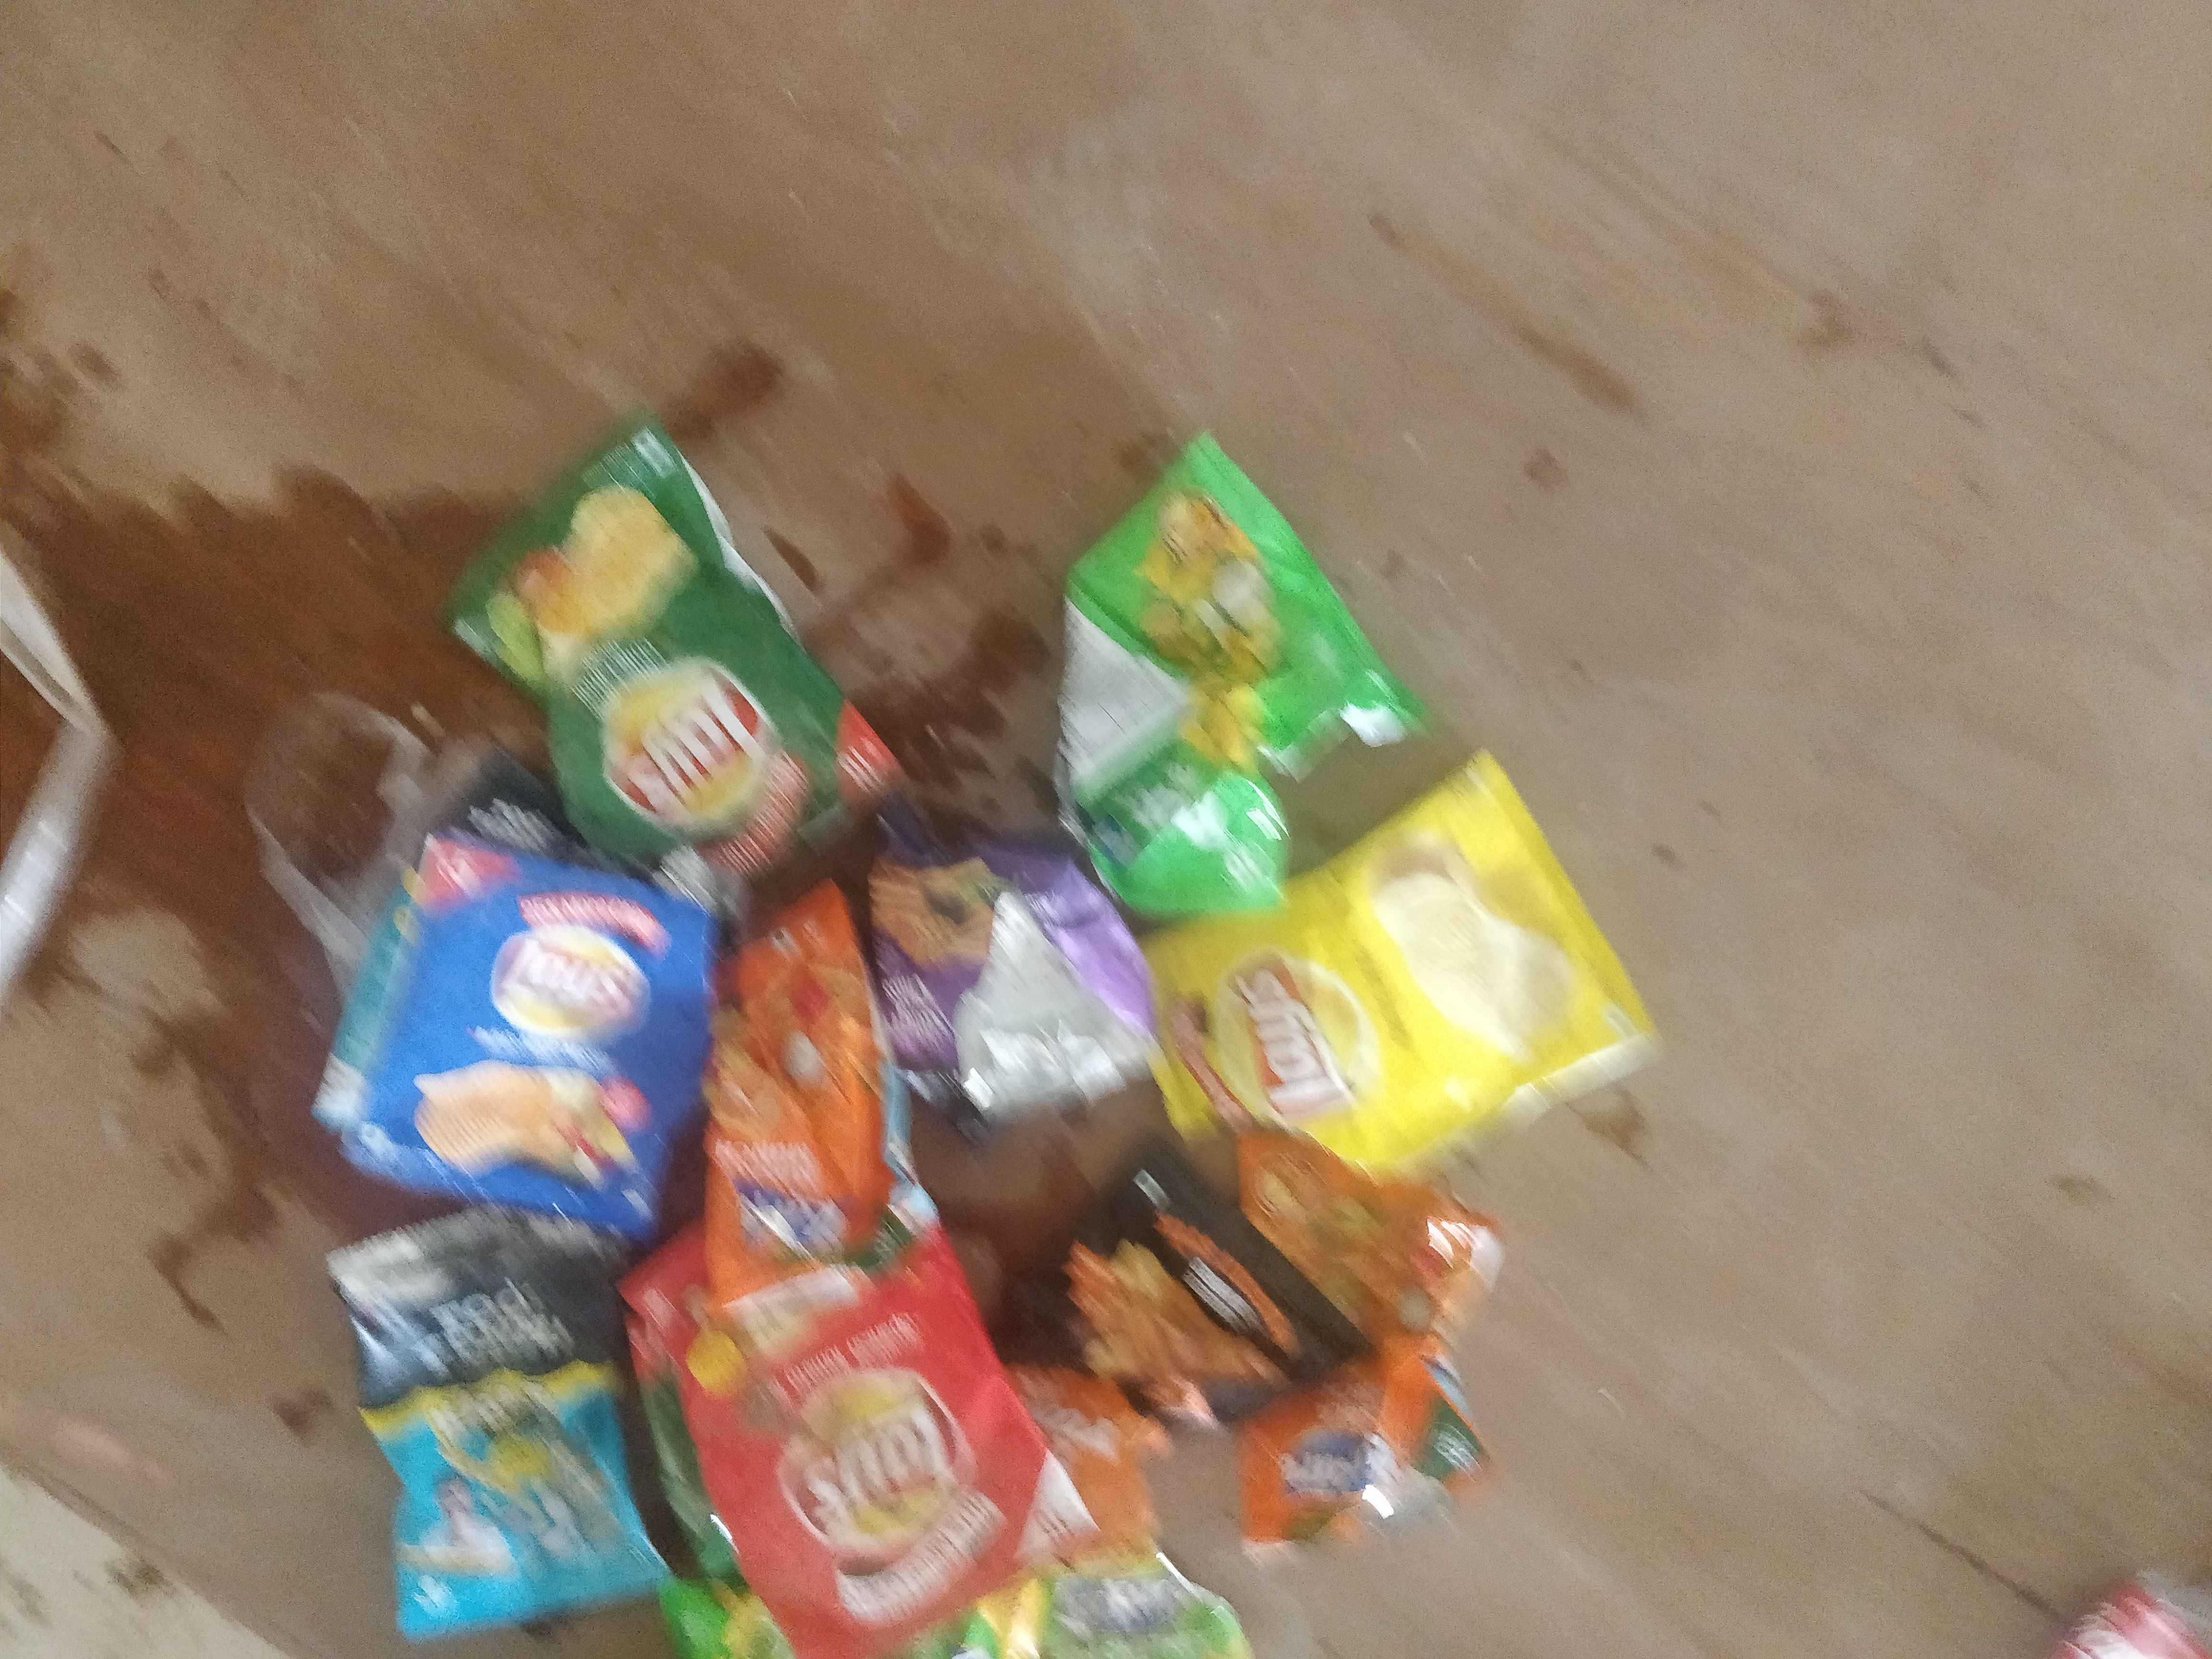Lays: (1202, 927, 1400, 1134), (780, 1378, 968, 1574), (613, 662, 772, 836), (463, 918, 669, 1046)
kurkure: (1024, 1558, 1181, 1647), (1277, 1429, 1420, 1513), (711, 1171, 864, 1248), (1085, 803, 1169, 878)
tooyumm: (397, 1277, 587, 1389), (1024, 1345, 1137, 1485)
